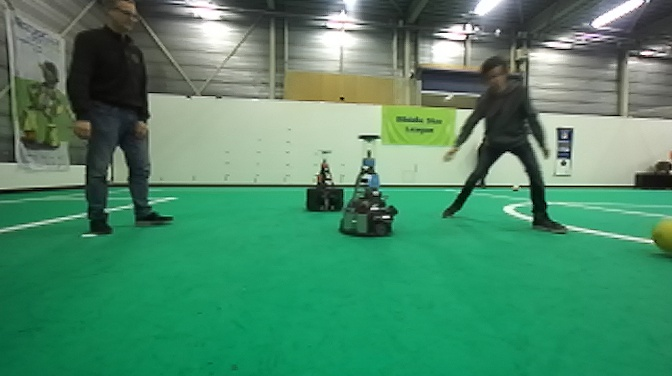ball: (649, 213, 672, 259), (509, 181, 523, 194)
human: (63, 1, 176, 236), (443, 57, 570, 235), (473, 133, 495, 189)
robot: (338, 133, 401, 239), (306, 148, 347, 212)
